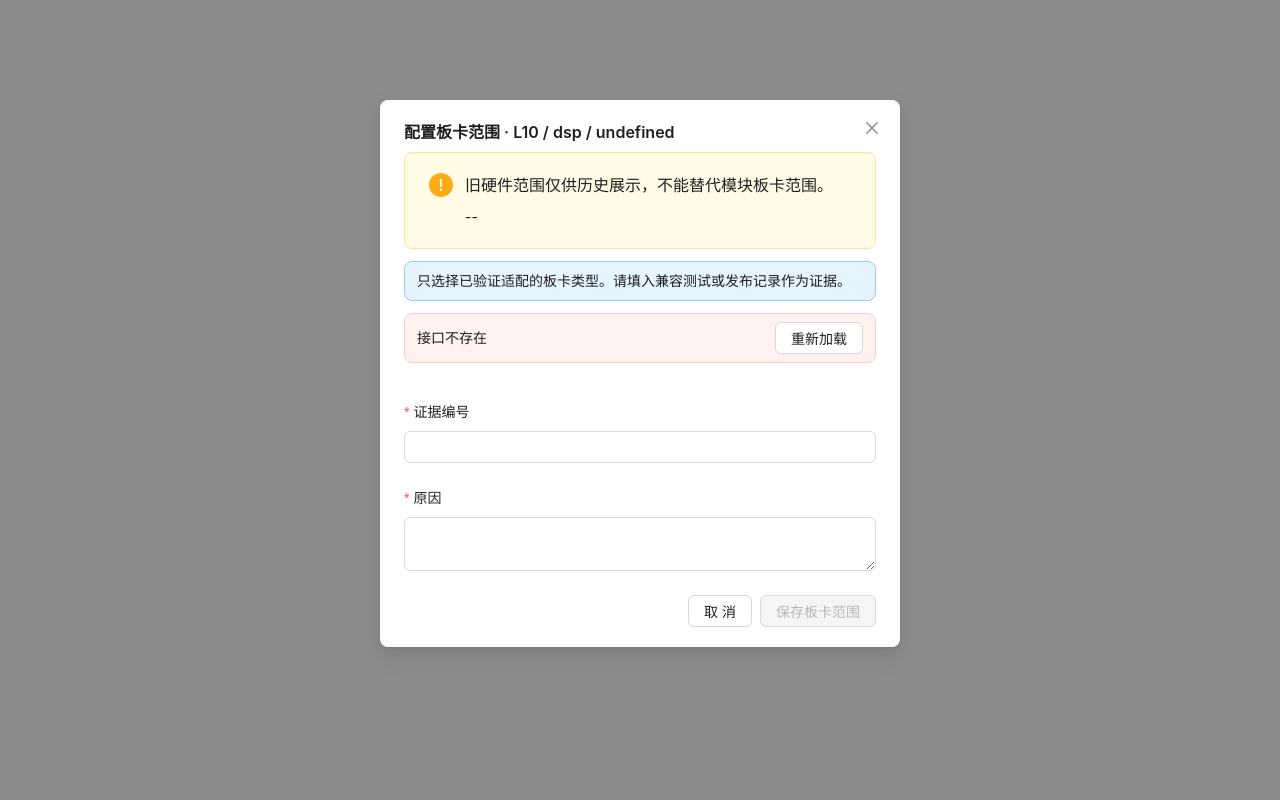
FirmwareBoardTypesEditor › shows load failures with retry instead of claiming the catalog is empty
Expected: the text "接口不存在" is shown, [417,329,487,346]
Click the button "重新加载" at (819, 338), box [775,322,863,354]
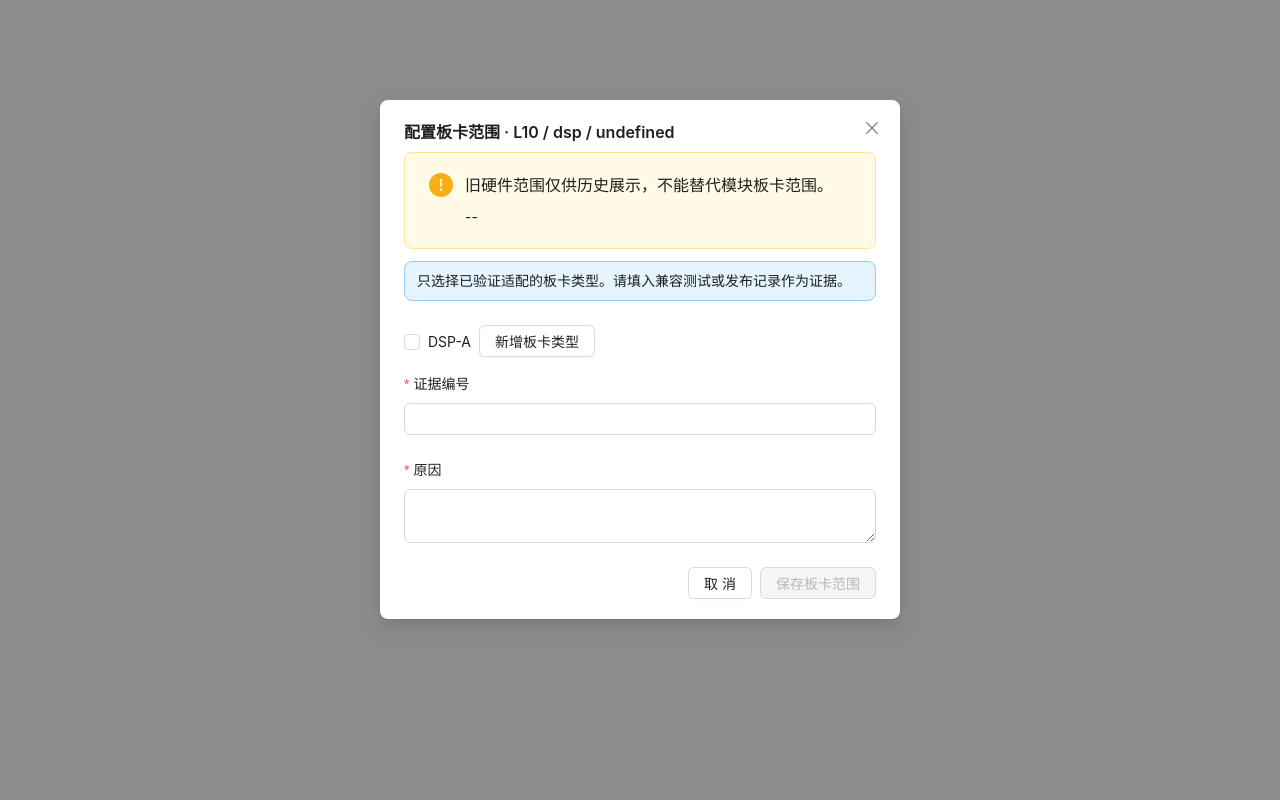
Expected: the text "DSP-A" is shown, [428,333,471,350]
